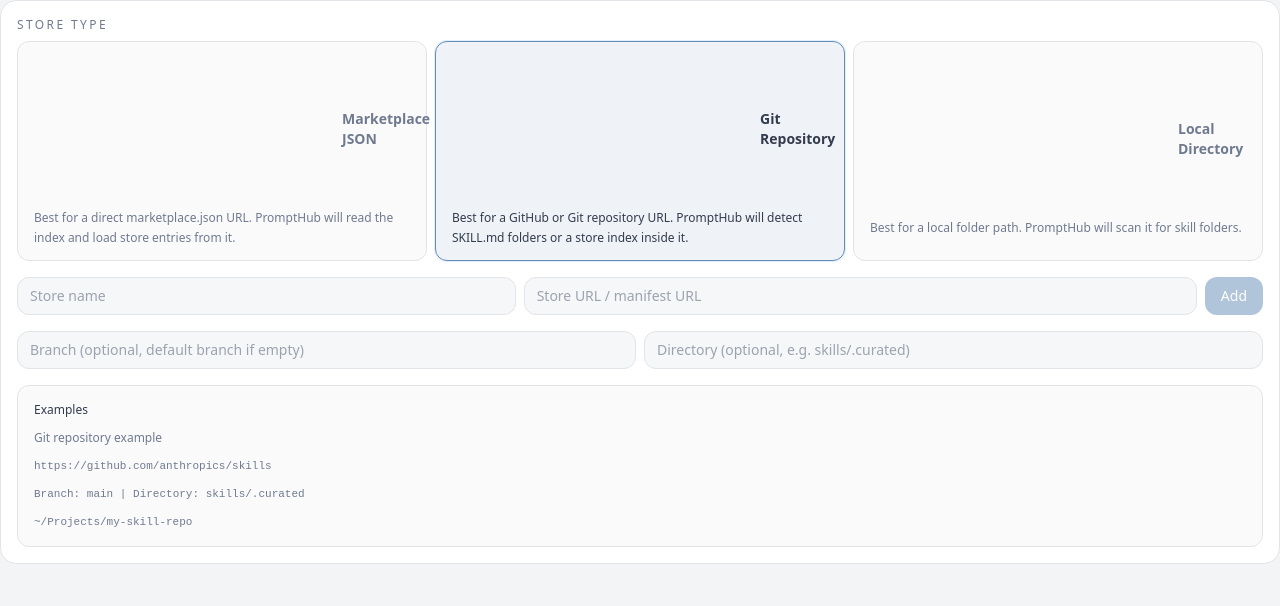
Test case: SkillStore custom sources › clears add-source branch loading when the repository URL becomes invalid
In the field labelled "Store URL / manifest URL": (860, 296) [524,277,1197,315], type "https://github.com/example/store"
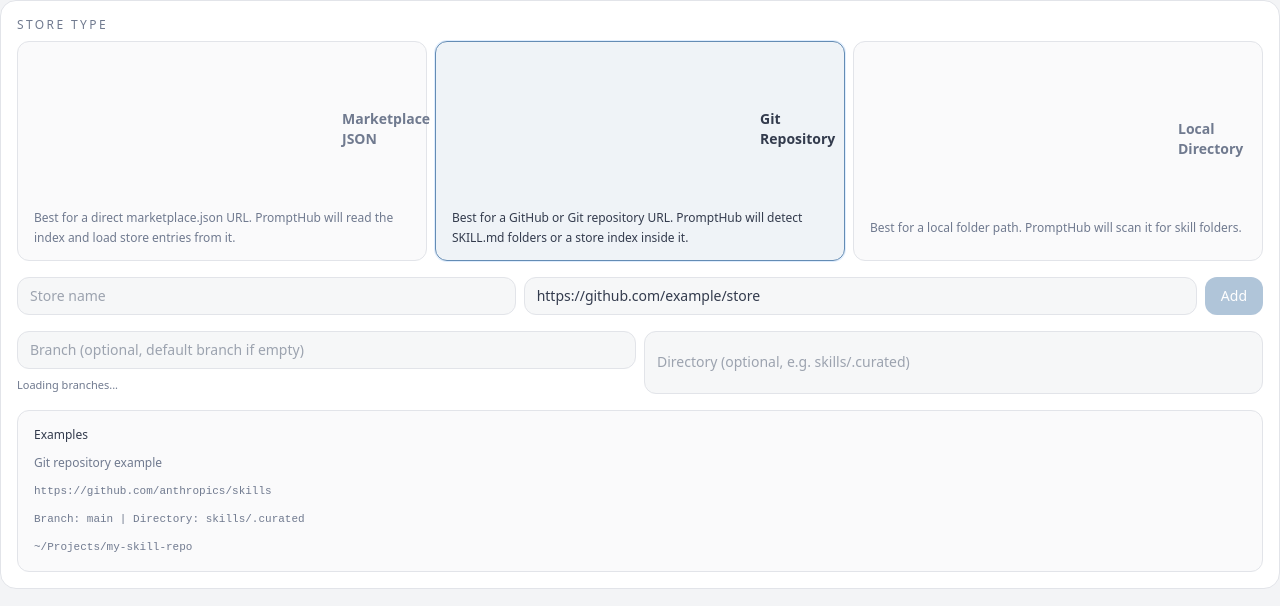
expect the text "Loading branches..." is shown: met, box [17,377,118,392]
Replace the text in the field named "Store URL / manifest URL" with "not-a-remote-repo": (860, 296) [524,277,1197,315]
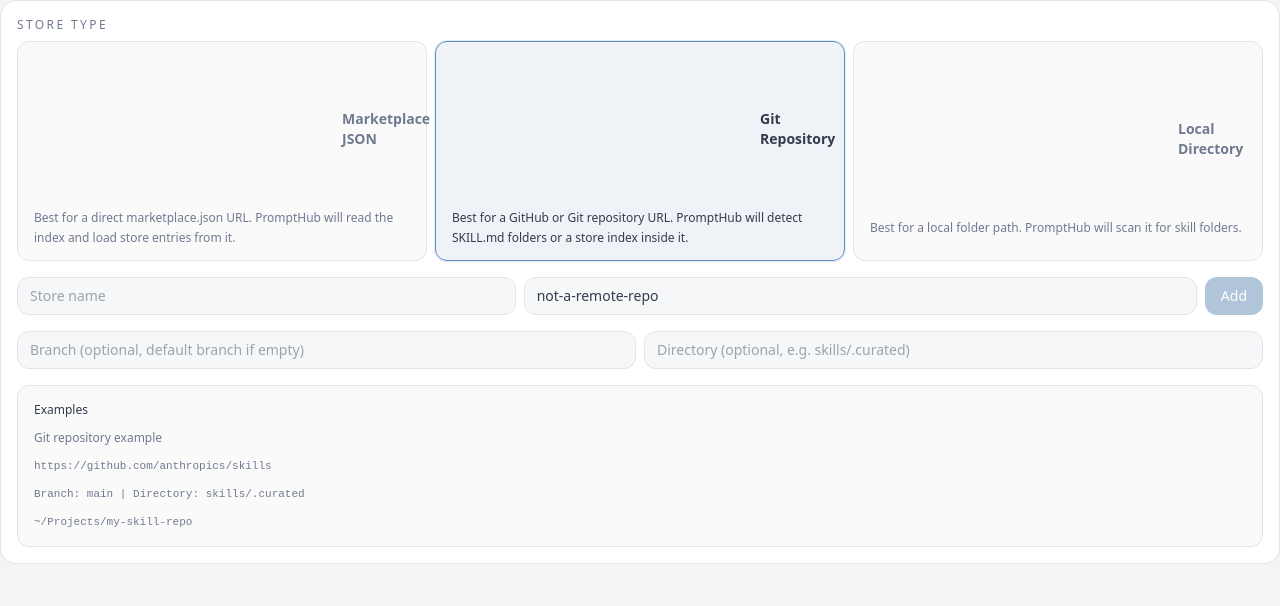
expect the text "Loading branches..." is gone: met
